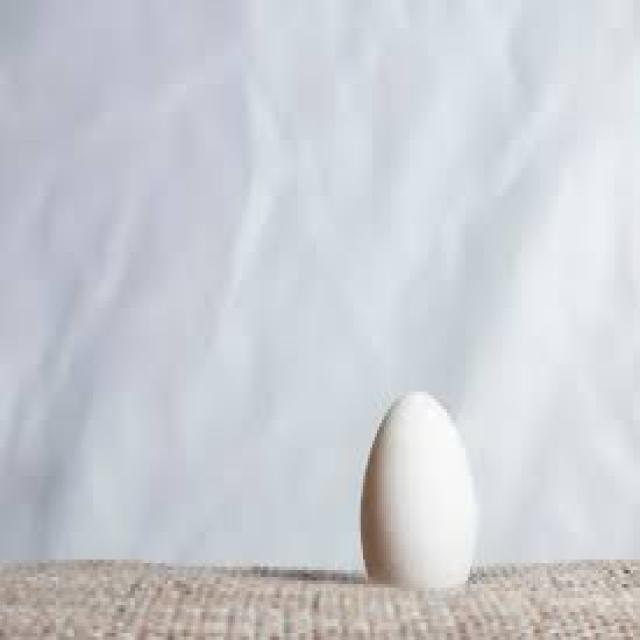White Egg: (352, 392, 486, 611)
